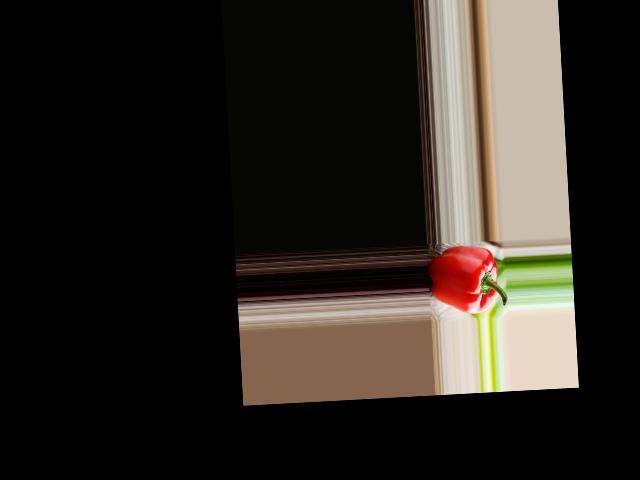bell_pepper: (426, 245, 506, 317)
